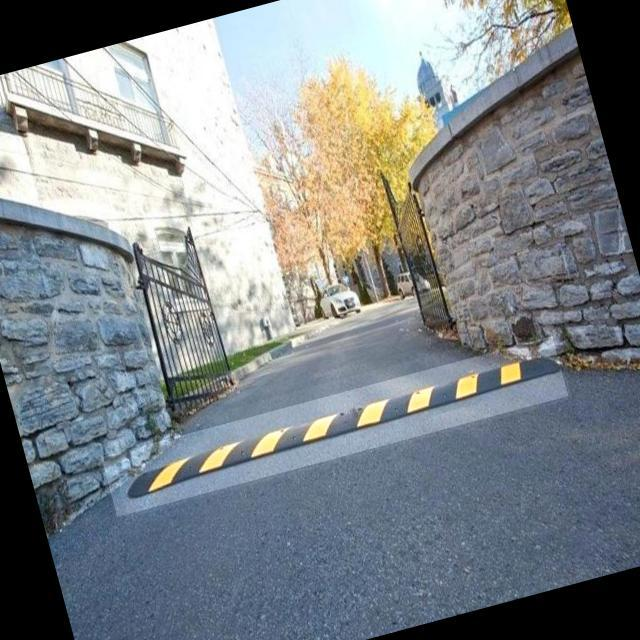speedbreaker: (101, 336, 568, 516)
